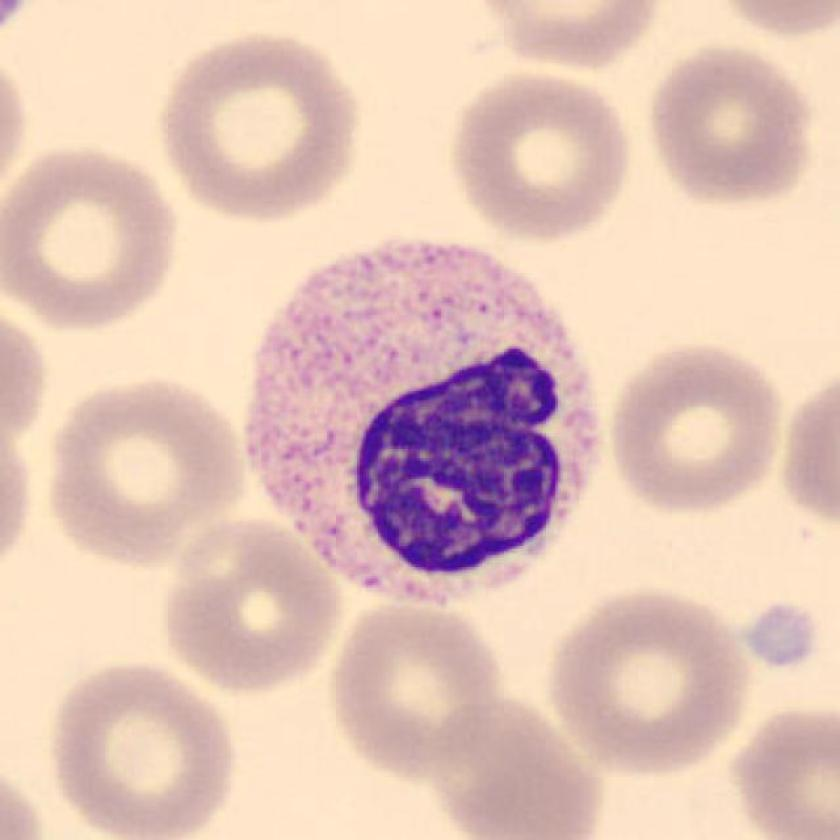neutrophil: (246, 248, 597, 606)
